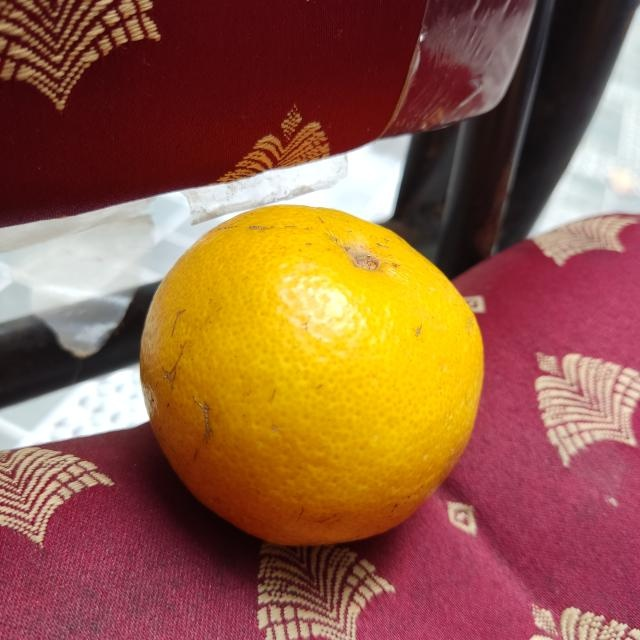agrume: (137, 205, 483, 547)
